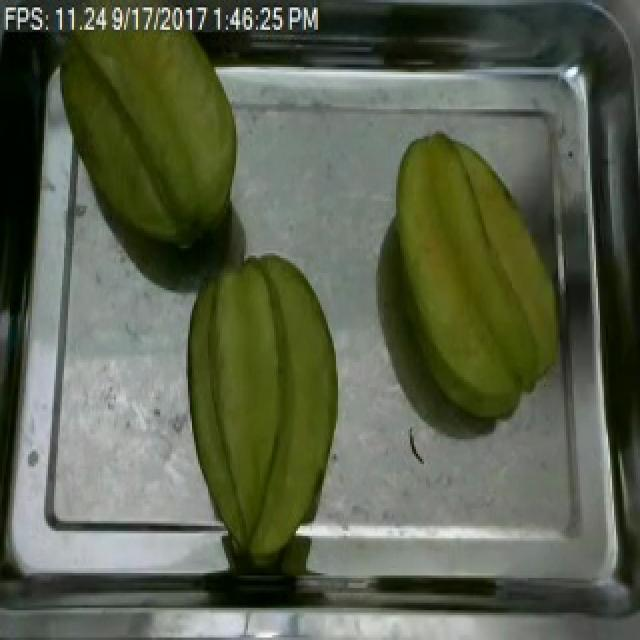fruit: (170, 241, 354, 573), (386, 124, 580, 437), (54, 20, 250, 255)
